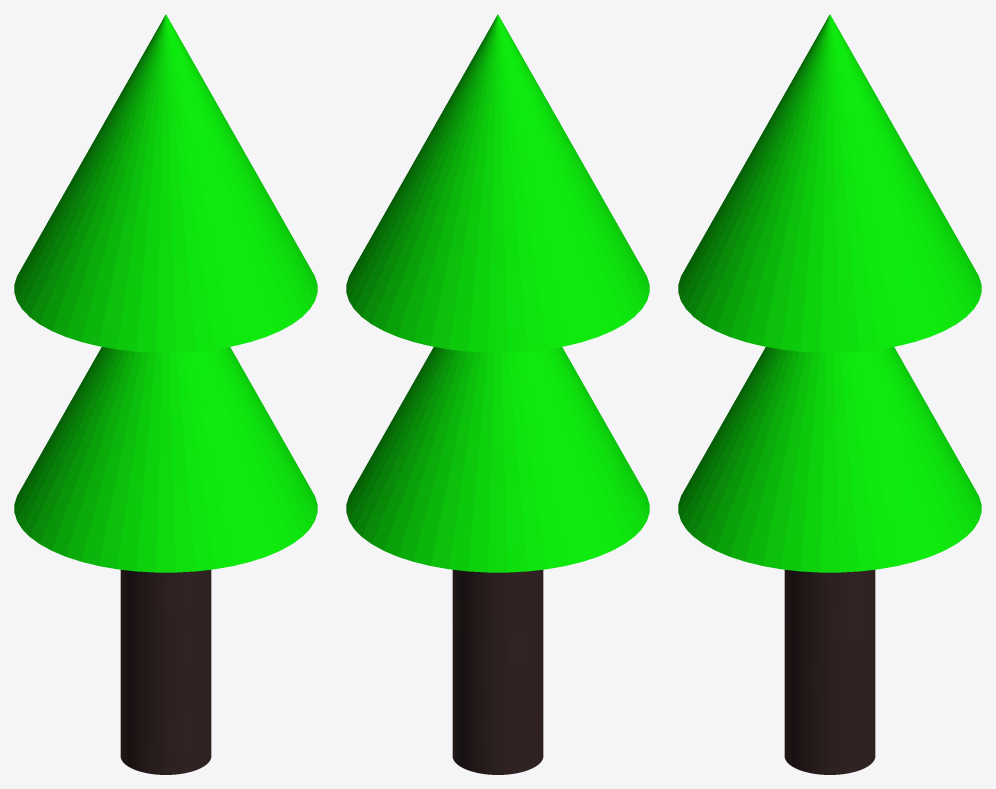
The model's file is Tree.gltf.
3 renders of one model, left to right at view 1: azimuth 30°, elevation 25°; view 2: azimuth 150°, elevation 25°; view 3: azimuth 270°, elevation 25°, orthographic.
Parts seen in each view (by area): view 1: cone (×2), cylinder; view 2: cone (×2), cylinder; view 3: cone (×2), cylinder.
Part boxes in pixels (x1,y1,x2,y2): cone (×2): (14,14,317,572); cylinder: (120,569,211,774); cone (×2): (346,14,649,572); cylinder: (452,569,543,774); cone (×2): (678,14,981,572); cylinder: (784,569,875,774).
Bounding box in the file's own units: 0.625 × 1.69 × 0.625.
Materials: 3 (3 with a texture image).
